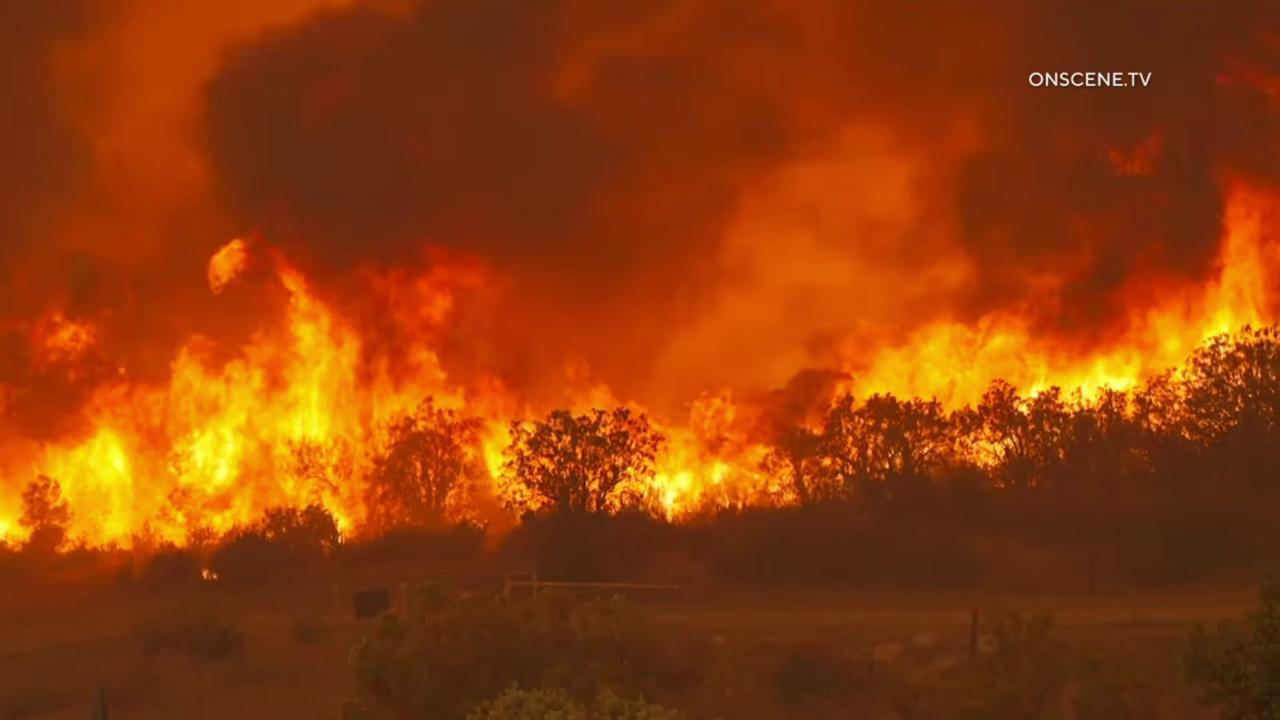fire: (564, 173, 1280, 533), (0, 230, 550, 565)
smoke: (0, 0, 1280, 720)
